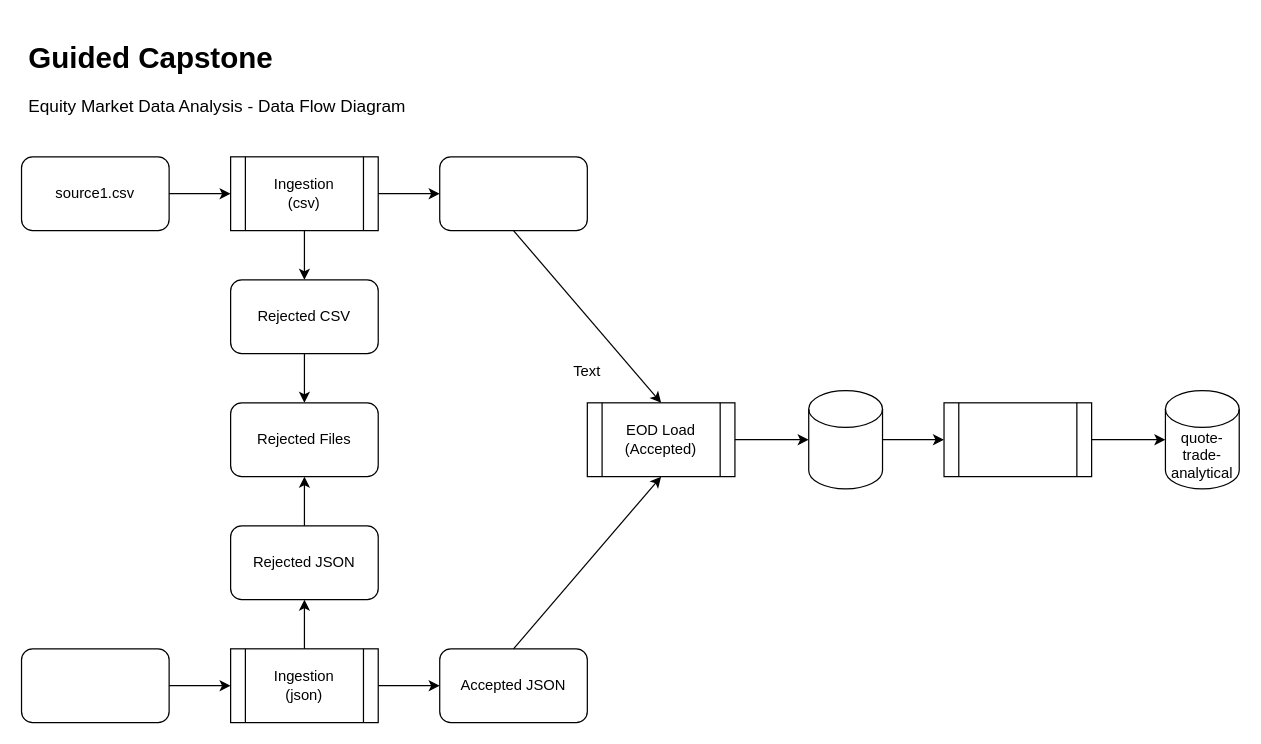
The diagram is 1261 pixels wide and 744 high, and some of its shapes have lost their labels. Here are the shapes that lost their labels. From the top down, the box of each, then its label:
(438, 156, 587, 231): Accepted CSV
(807, 389, 883, 489): EOD Trade Quote
(943, 402, 1092, 477): Analytical ETL
(20, 648, 169, 723): source1.json
